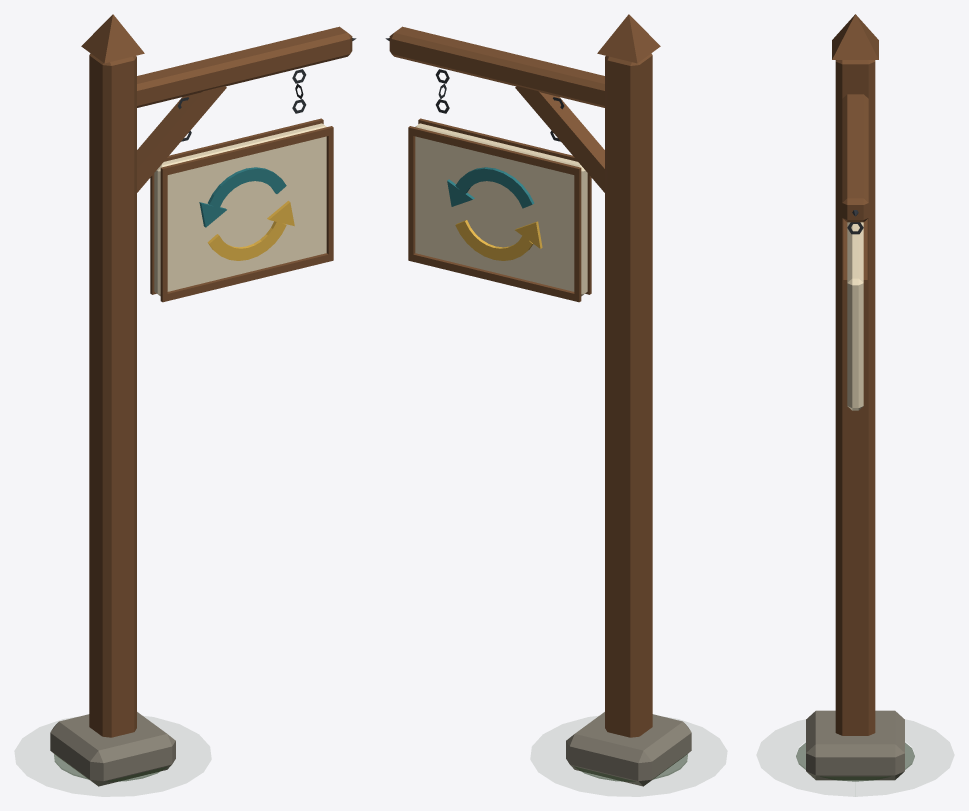
Rendered from hanging_sign.glb.
3 views of the same model, side by side, from view 1: azimuth 30°, elevation 25°; view 2: azimuth 150°, elevation 25°; view 3: azimuth 270°, elevation 25° (orthographic).
Visible parts, largest first — view 1: hanging_sign; view 2: hanging_sign; view 3: hanging_sign.
Boxes of the visible parts, bbox=[...] form: hanging_sign: bbox=[50, 14, 356, 786]; hanging_sign: bbox=[385, 14, 691, 786]; hanging_sign: bbox=[796, 14, 914, 796].
Size of the model in its own units: 1.15 by 2.5 by 0.6.
